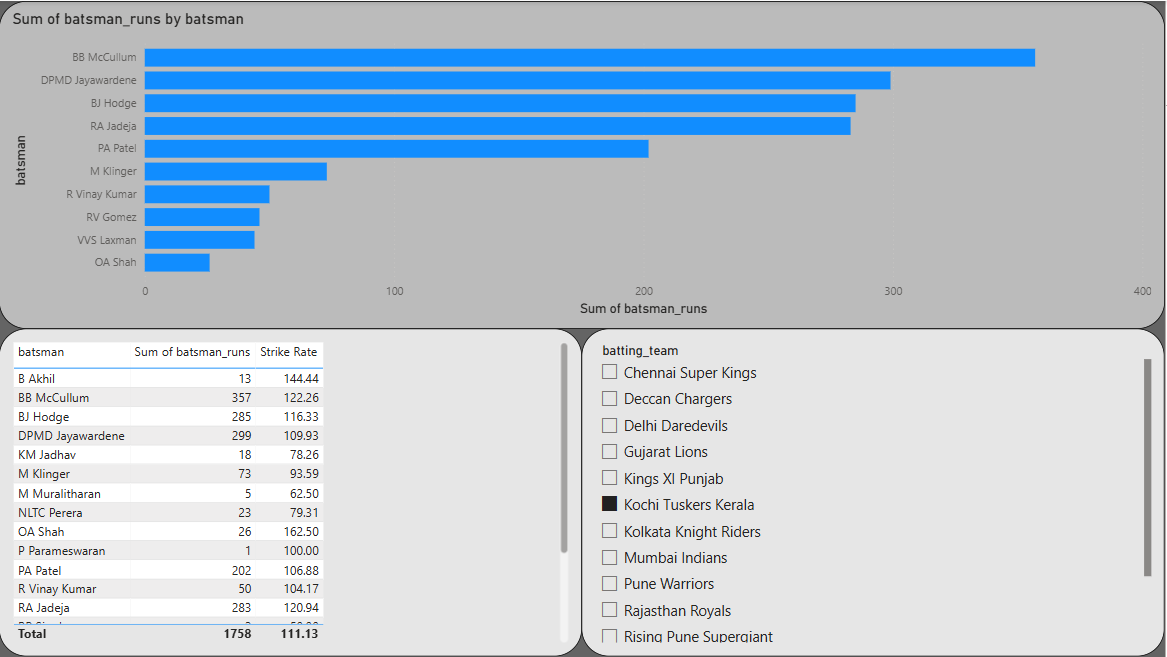

Layout of this report page (visuals, bound fields, positions):
{"tool":"powerbi","page":{"name":"Batting","canvas":[1280,720],"ordinal":1},"visuals":[{"type":"clusteredBarChart","fields":{"Category":["deliveries.batsman"],"Y":["Sum(deliveries.batsman_runs)"]},"box":[0,0,1280,360],"z":0},{"type":"tableEx","fields":{"Values":["deliveries.batsman","Sum(deliveries.batsman_runs)","deliveries.Strike Rate"]},"box":[0,360,640,360],"z":1000},{"type":"slicer","fields":{"Values":["deliveries.batting_team"]},"box":[640,360,640,360],"z":2000}]}

Visuals, with their boxes in screenshot pixels (x1, y1, x2, y2), scaled from the page's 1280x720 canvas onto the 1167x657 screenshot:
clusteredBarChart - deliveries.batsman x Sum(deliveries.batsman_runs): rect(0, 0, 1166, 328)
tableEx - deliveries.batsman x Sum(deliveries.batsman_runs): rect(0, 328, 584, 656)
slicer - deliveries.batting_team: rect(584, 328, 1166, 656)
